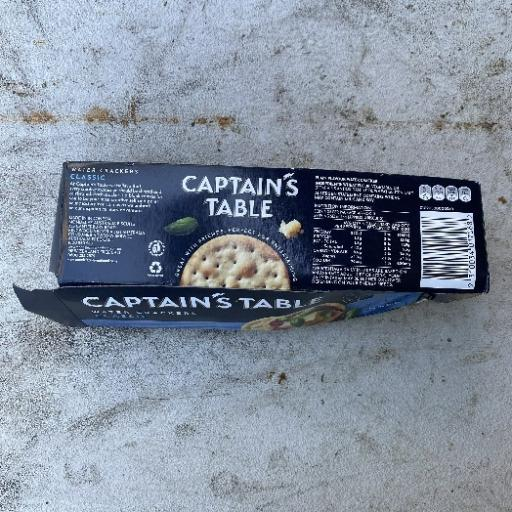Cardboard: (47, 158, 490, 330)
